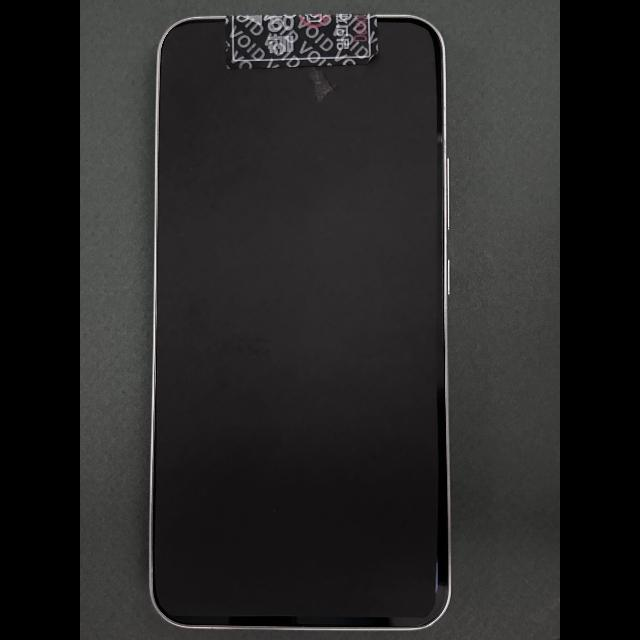phone: (149, 14, 452, 631)
sticker: (225, 13, 379, 69)
